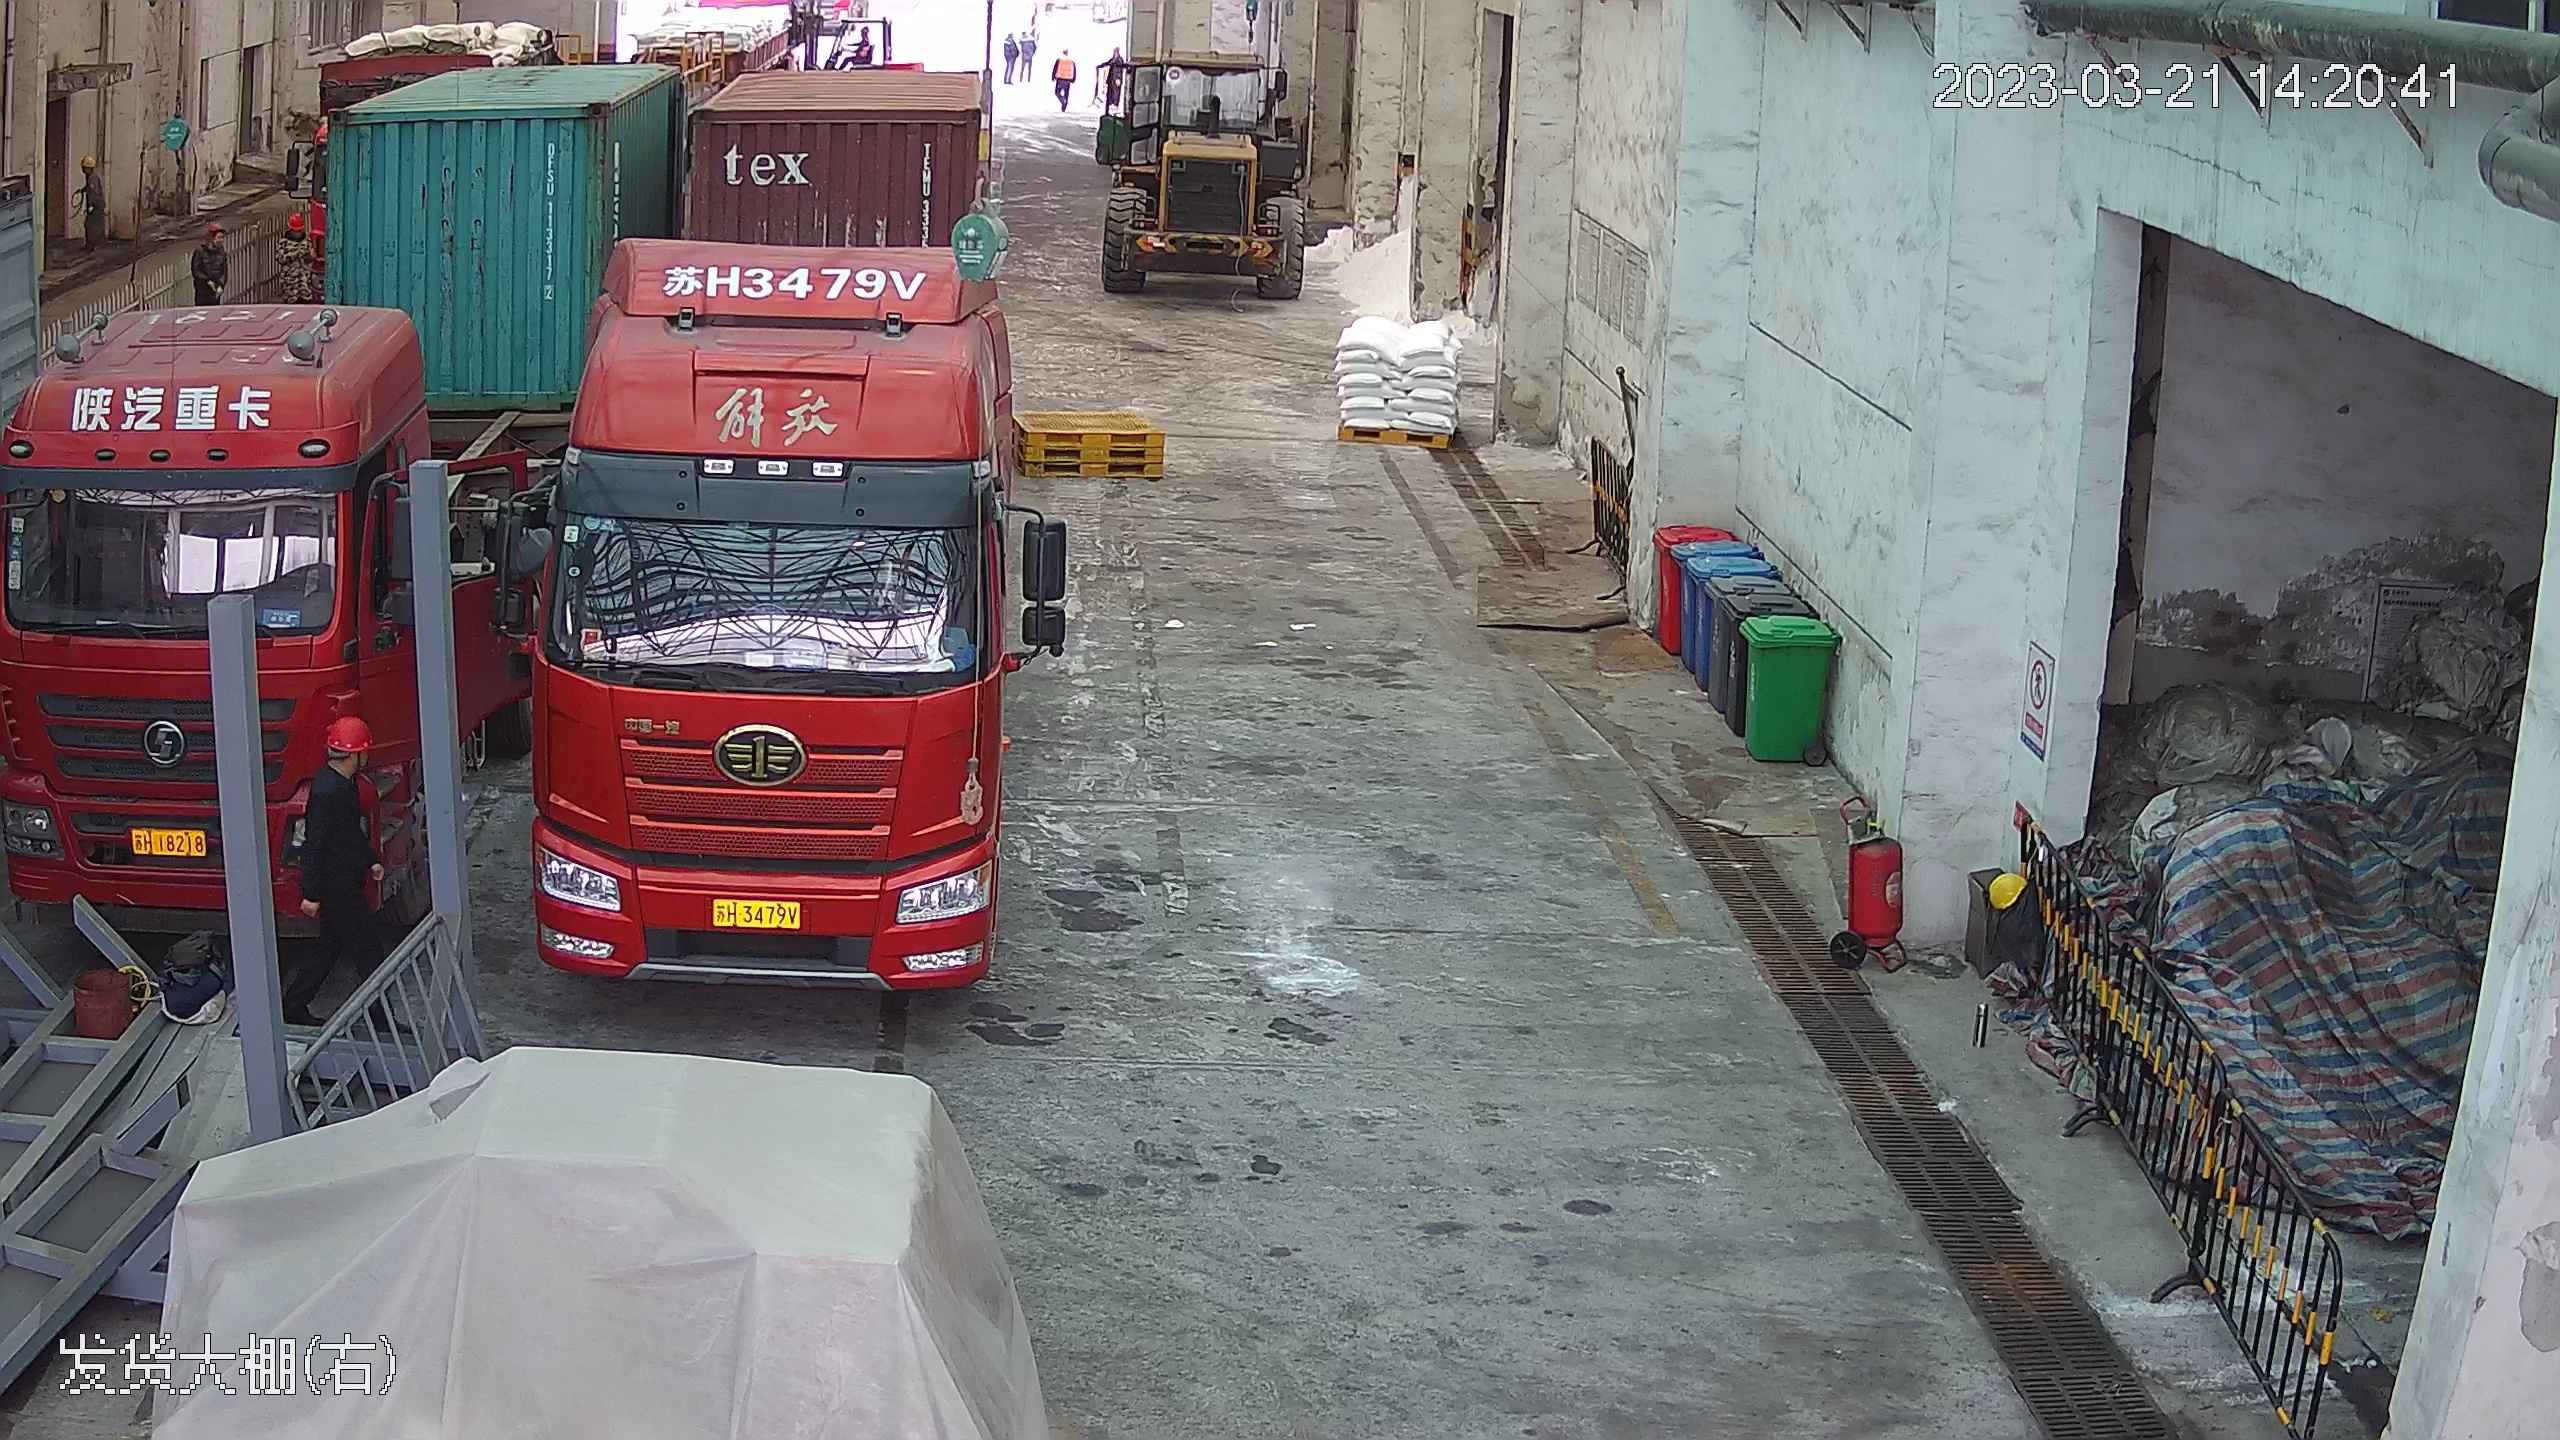head: (305, 712, 378, 812), (278, 210, 313, 252), (79, 154, 106, 201), (196, 222, 227, 257)
helmet: (1985, 866, 2027, 912), (323, 711, 373, 748), (288, 213, 306, 231), (207, 222, 225, 235), (80, 155, 97, 169)
people: (294, 704, 393, 1005), (189, 216, 231, 309), (276, 211, 316, 304), (75, 153, 111, 254), (1048, 48, 1073, 111)
truck: (511, 36, 1039, 991), (19, 130, 505, 950)
